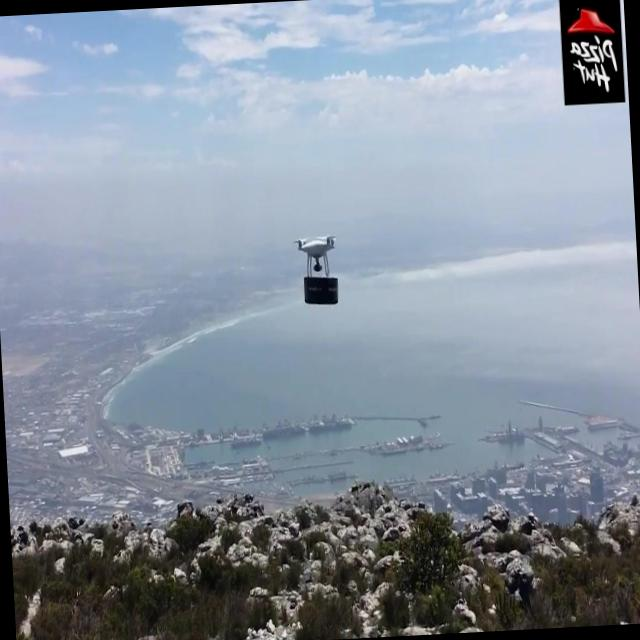drone: (294, 231, 342, 307)
